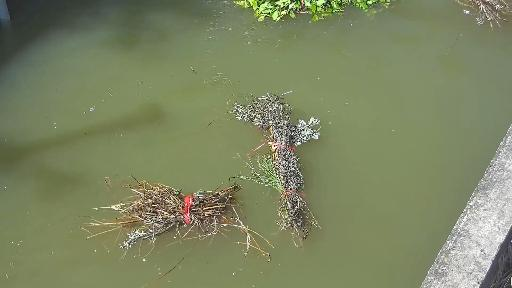twig: (239, 66, 330, 246), (124, 165, 291, 263), (238, 0, 459, 32), (457, 0, 512, 30)
